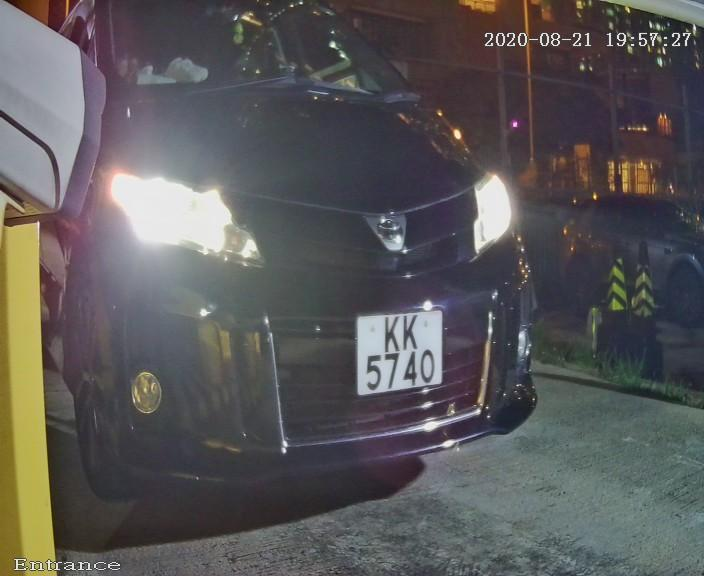Car: (32, 8, 588, 528)
License Plate: (340, 292, 468, 415)
